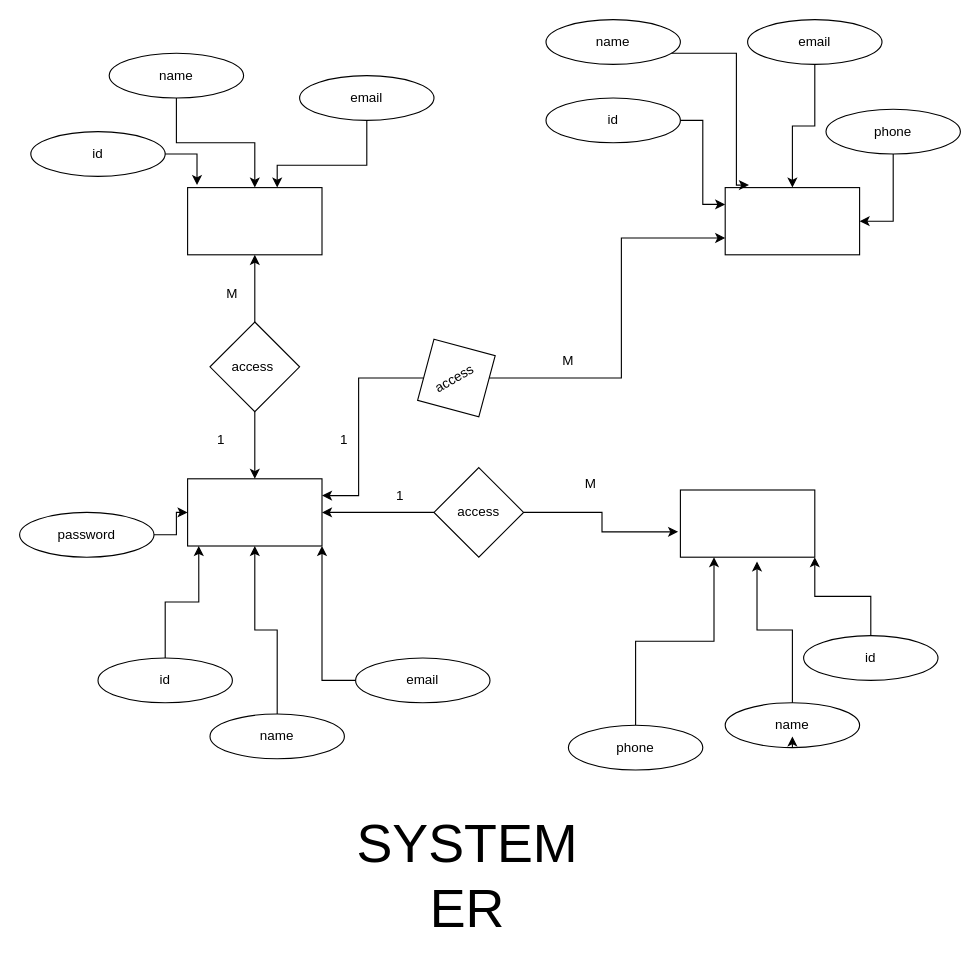
The diagram is 980 pixels wide and 960 high, and some of its shapes have lost their labels. Here are the shapes that lost their labels. From the top down, the centre of each, then its label:
At (254,220): "student".
At (792,220): "borrowing".
At (254,512): "admin".
At (747,523): "librarian".
